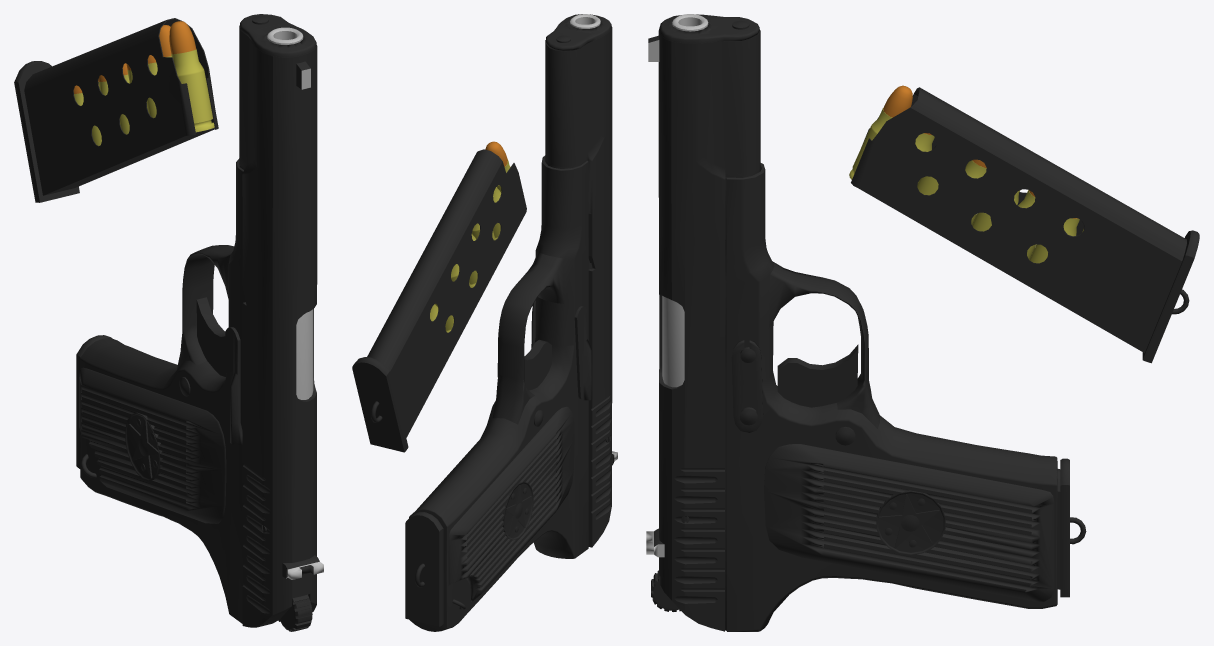
The picture shows the model from 3 angles, left to right: view 1: azimuth 30°, elevation 25°; view 2: azimuth 150°, elevation 25°; view 3: azimuth 270°, elevation 25°; orthographic projection. The views are drawn at different scales.
Bounding box in the file's own units: 46.89 × 393 × 329.
